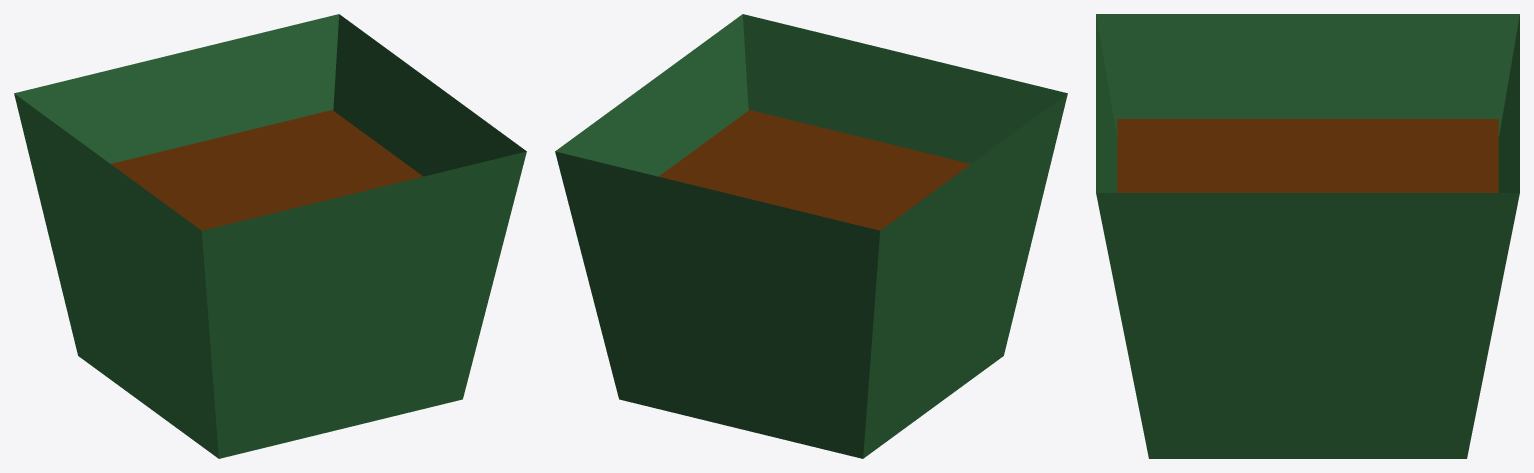
File: plantpot.dae
3 renders of one model, left to right at view 1: azimuth 30°, elevation 25°; view 2: azimuth 150°, elevation 25°; view 3: azimuth 270°, elevation 25°, orthographic. The views are drawn at different scales.
Visible parts, largest first — view 1: Plane; view 2: Plane; view 3: Plane.
Part boxes in pixels (<box>): Plane: <box>14,14,526,458</box>; Plane: <box>555,14,1067,458</box>; Plane: <box>1096,14,1519,458</box>.
Bounding box in the file's own units: 4 × 4 × 3.
